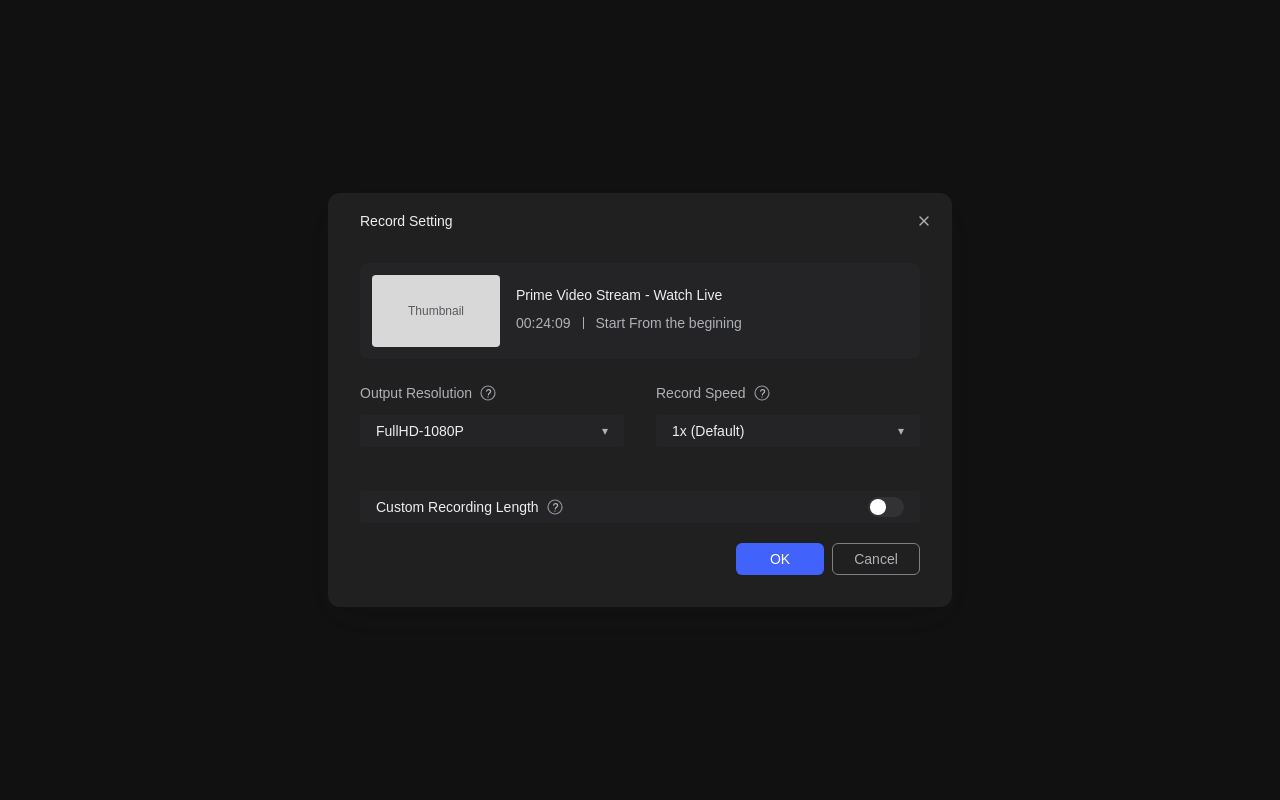
Test: RecordSettingDialog › collapses and expands duration input when toggled
Click the switch at (886, 507), box [868, 497, 904, 517]
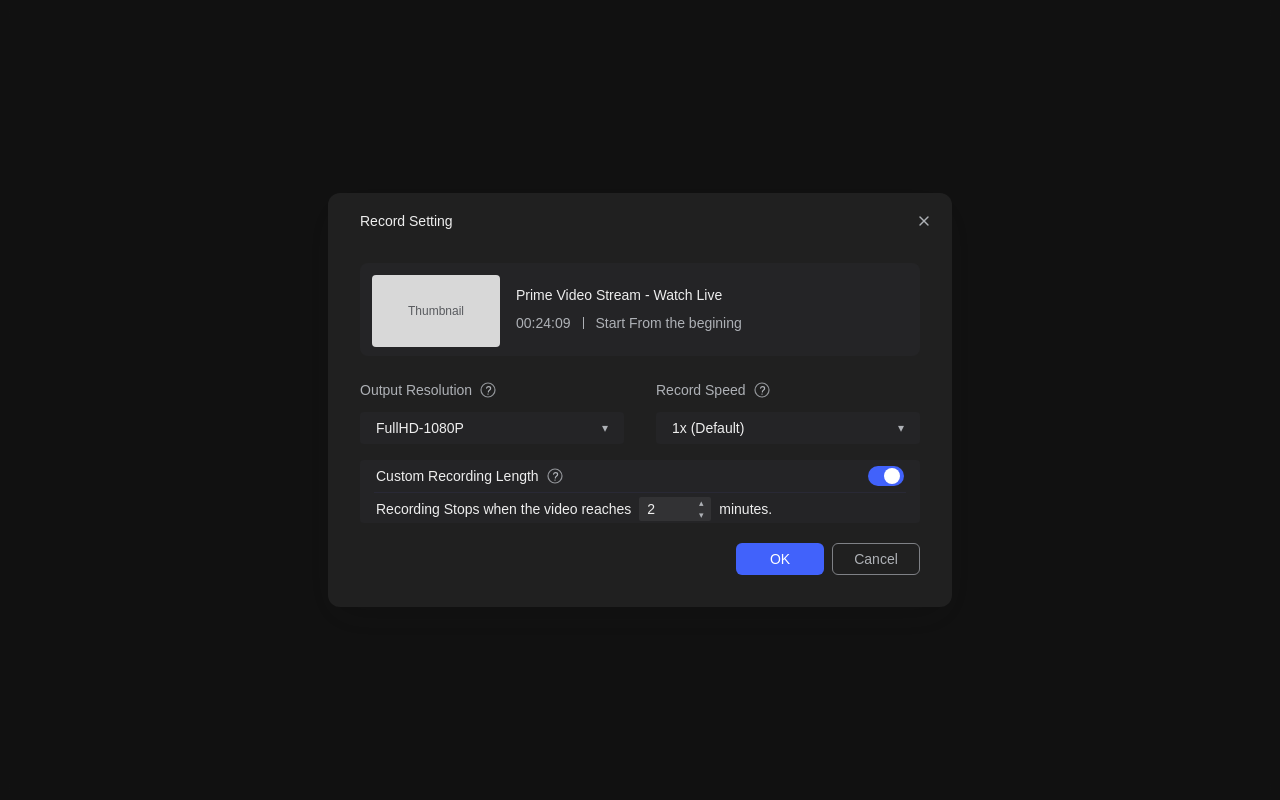
Result: the element with test id "custom-duration-row" is shown at [376, 497, 772, 521]
